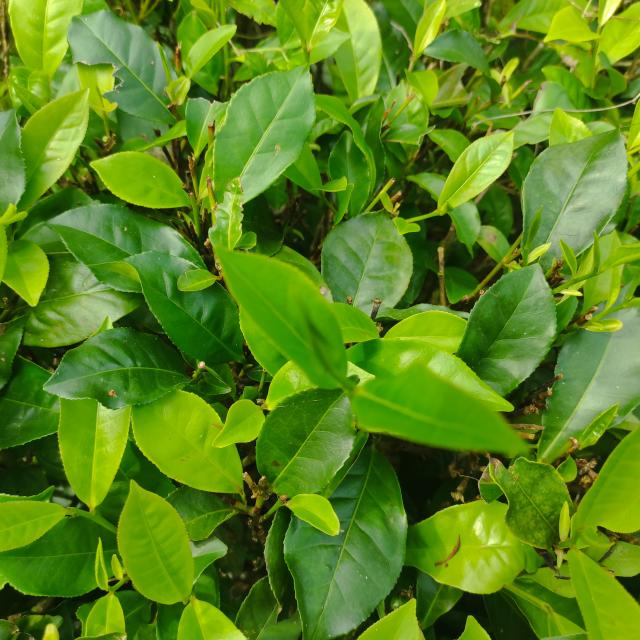unopened_leaf: (283, 280, 358, 400), (88, 533, 119, 598), (573, 526, 619, 556), (593, 253, 640, 280), (155, 44, 182, 89), (586, 222, 606, 282), (0, 200, 38, 227)
